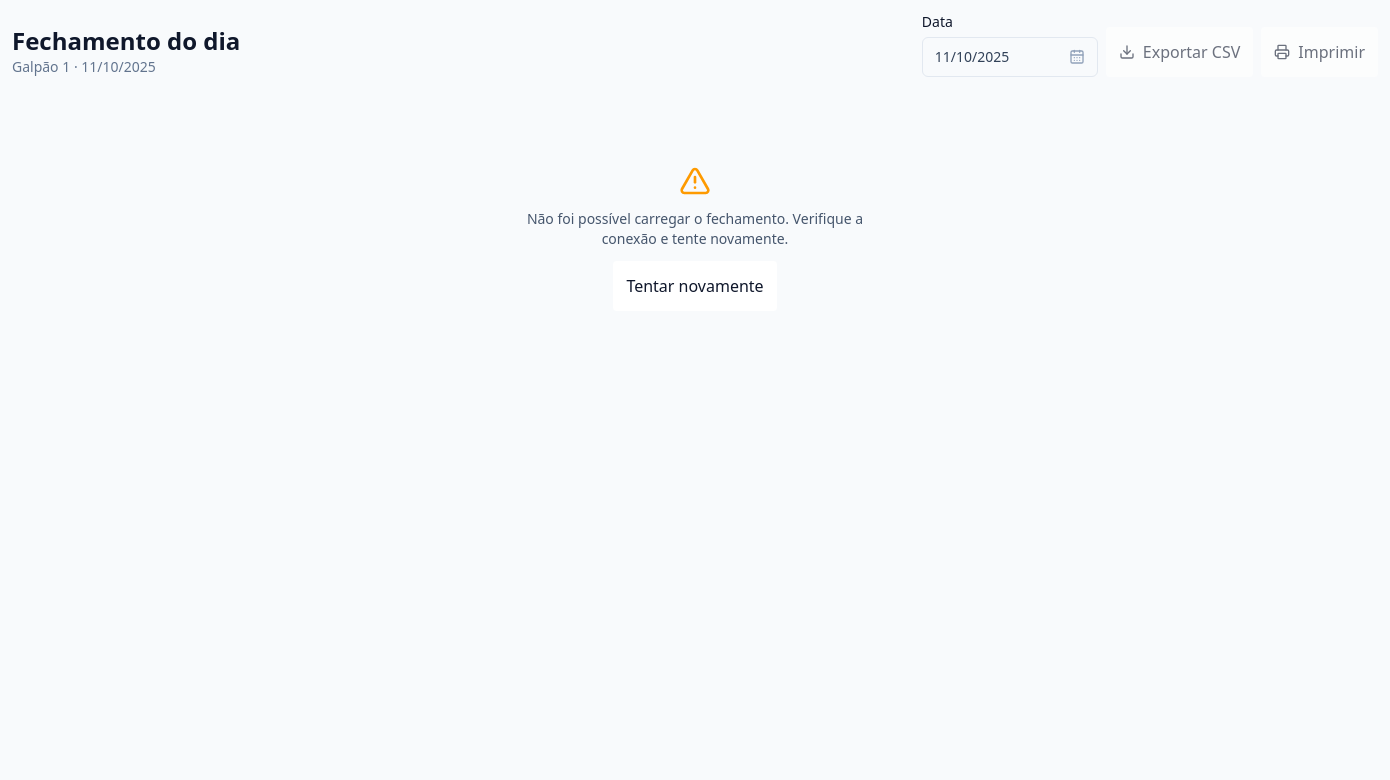
Test: Fechamento do dia: estados da tela › se o fechamento falha mostra o erro e "Tentar novamente" recupera
Expected: the text "Não foi possível carregar o fechamento. Verifique a conexão e tente novamente." is shown, [503, 209, 887, 249]
Click the button "Tentar novamente" at (695, 286), box [613, 261, 777, 311]
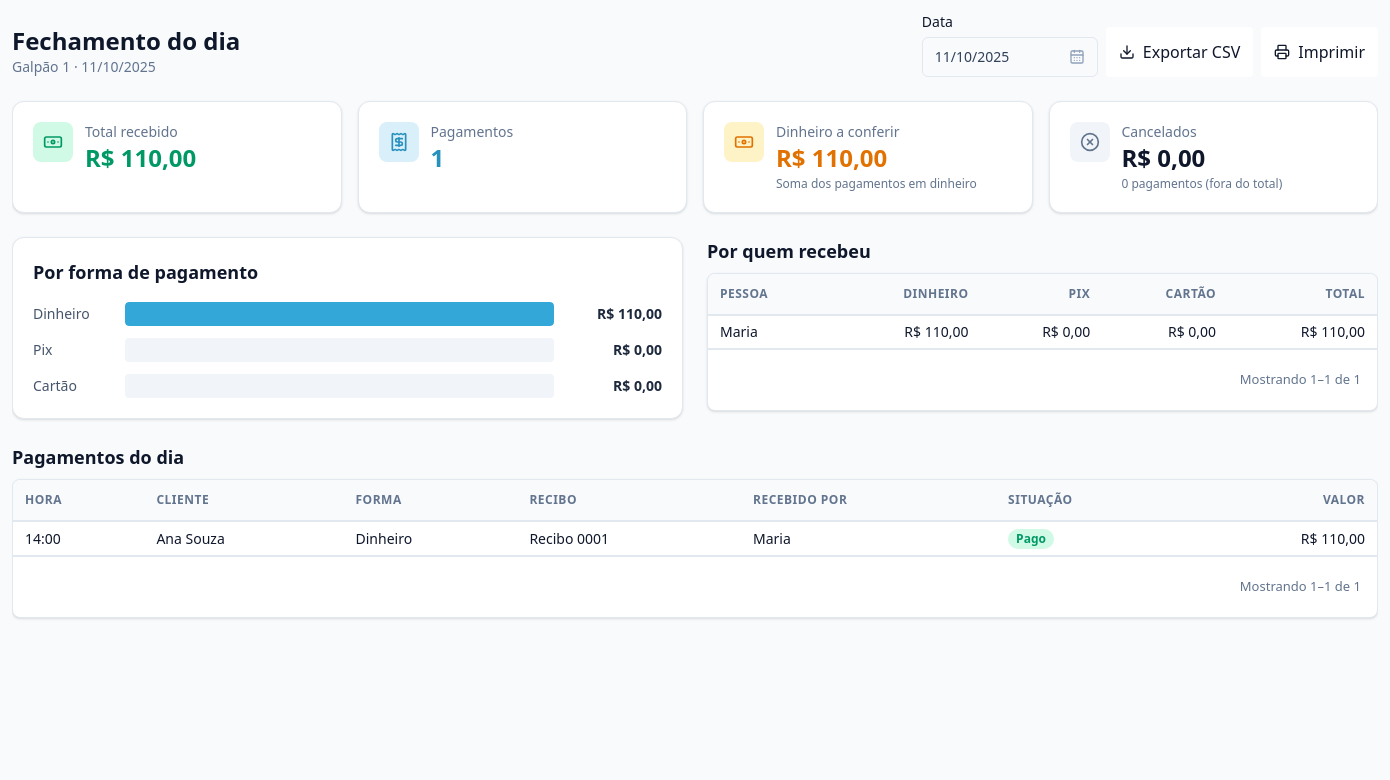
Expected: the text "Total recebido" is shown, [85, 122, 178, 141]
